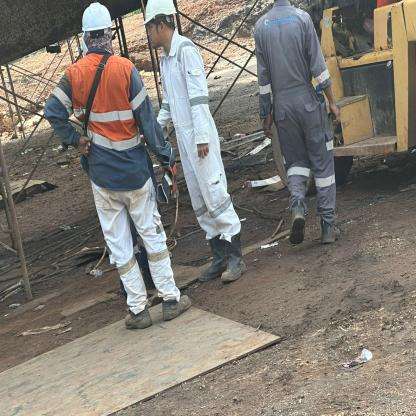bota: (218, 232, 250, 283), (195, 238, 227, 284), (286, 202, 310, 250), (158, 292, 194, 322), (318, 219, 349, 247), (122, 304, 152, 332)
